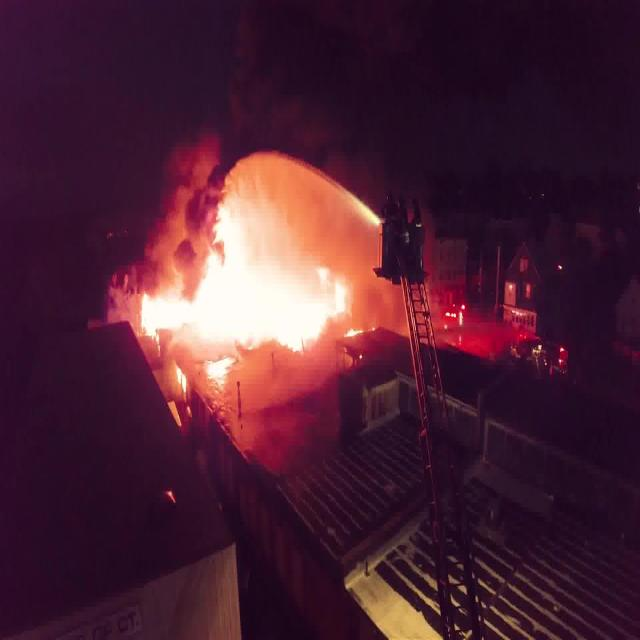Fire: (138, 200, 346, 388)
Smoke: (88, 0, 384, 326)
